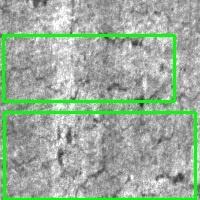crazing: (4, 112, 195, 199), (3, 35, 174, 101)
